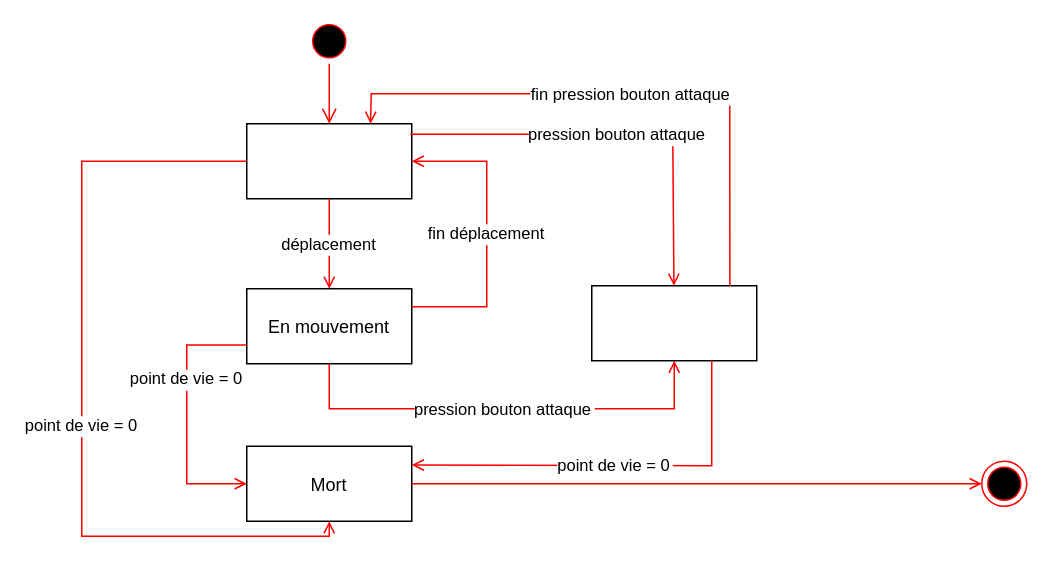
This 1052x561 diagram has some shape labels left out. Here are the shapes that lost their labels. From the top down, the centre of each, then its label:
At (x=328, y=160): "Inactif".
At (x=673, y=322): "En combat".
